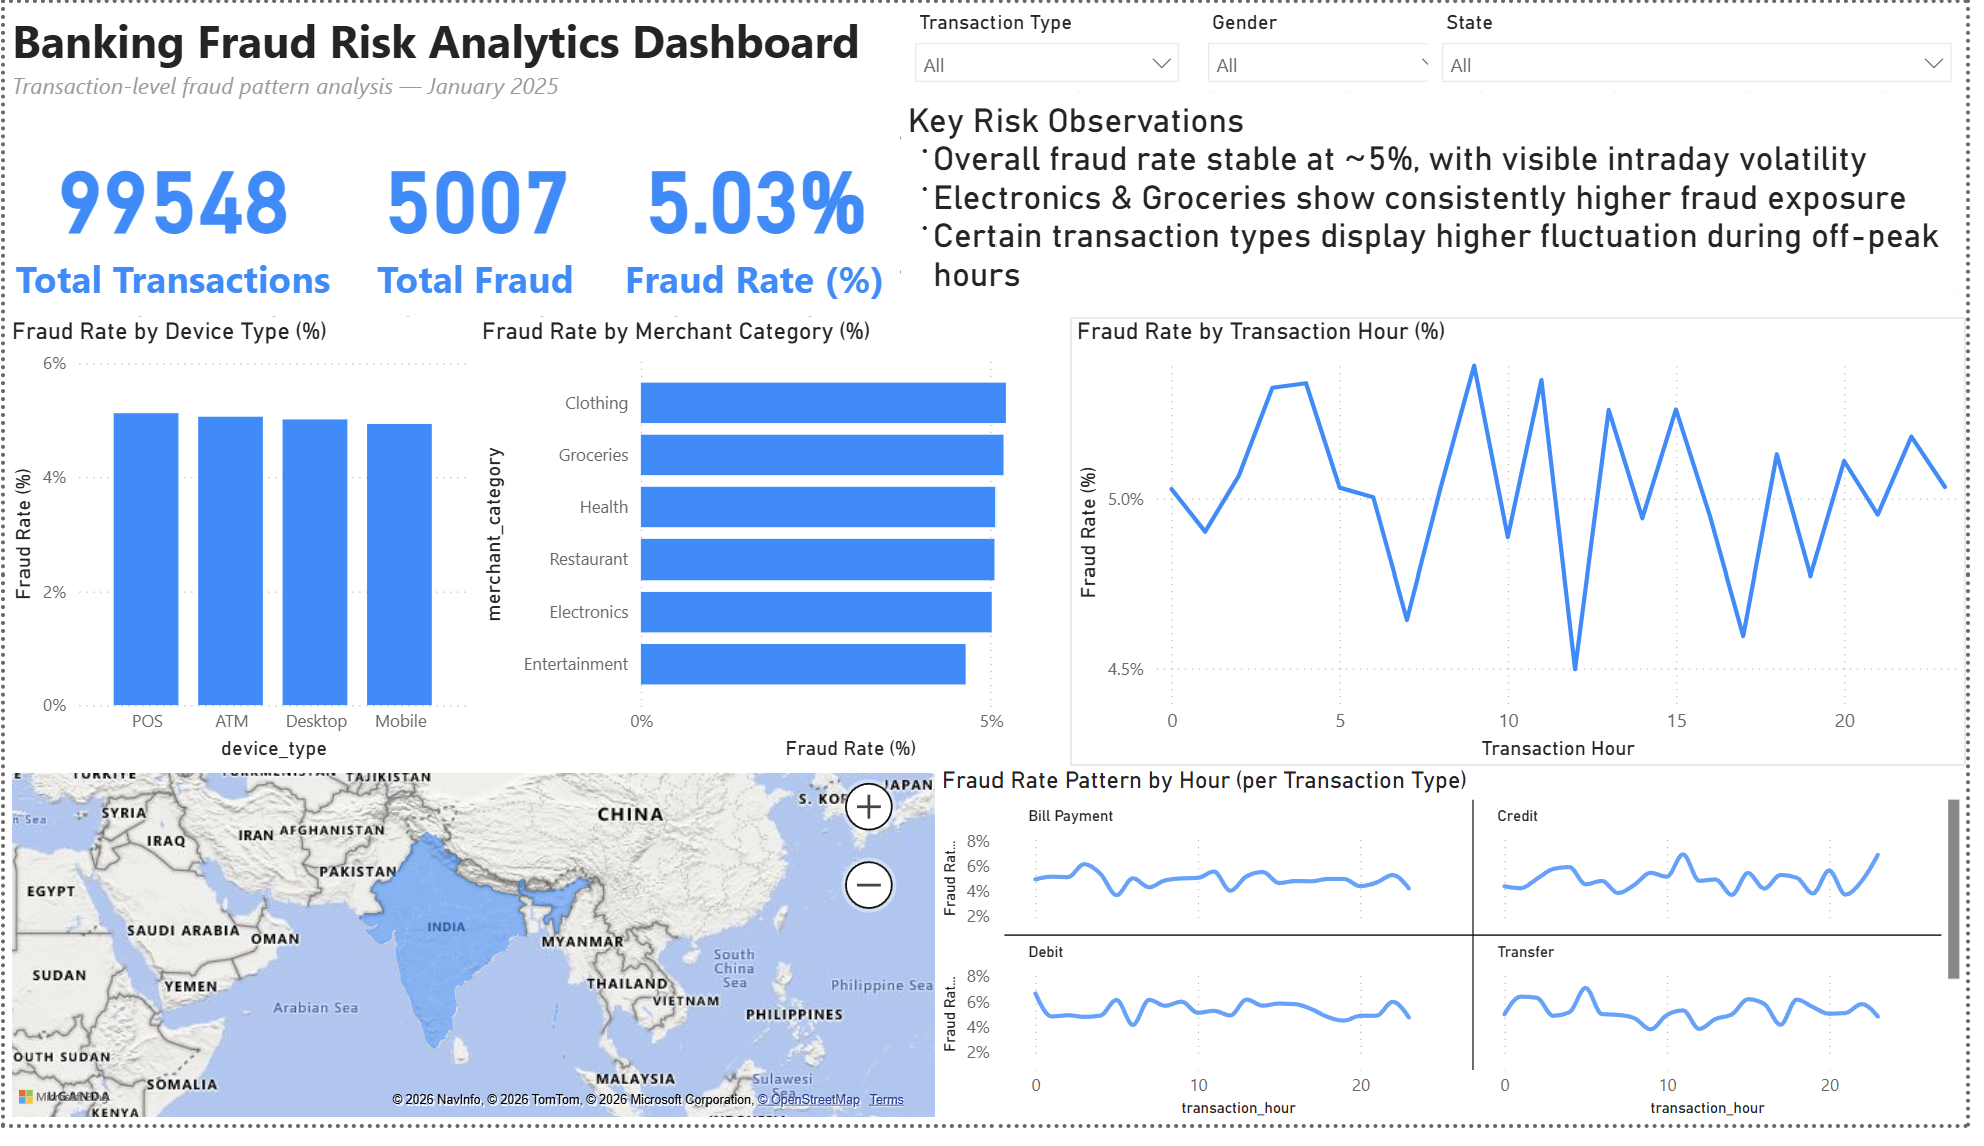

The dashboard page shown, as its layout file describes it:
{"tool":"powerbi","page":{"name":"Page 1","canvas":[1400,800],"ordinal":0},"visuals":[{"type":"card","fields":{"Values":["public transactions_analytics.Total Transactions"]},"box":[0,80,240,144],"z":0},{"type":"card","fields":{"Values":["public transactions_analytics.Total Fraud"]},"box":[240,80,192,144],"z":1000},{"type":"card","fields":{"Values":["public transactions_analytics.Fraud Rate (%)"]},"box":[432,80,208,144],"z":2000},{"type":"clusteredColumnChart","title":"Fraud Rate by Device Type (%)","fields":{"Category":["public transactions_analytics.device_type"],"Y":["public transactions_analytics.Fraud Rate (%)"]},"box":[0,224,336,320],"z":3000},{"type":"clusteredBarChart","title":"Fraud Rate by Merchant Category (%)","fields":{"Y":["public transactions_analytics.Fraud Rate (%)"],"Category":["public transactions_analytics.merchant_category"]},"box":[336,224,432,320],"z":4000},{"type":"lineChart","title":"Fraud Rate by Transaction Hour (%)","fields":{"Category":["public transactions_analytics.transaction_hour"],"Y":["public transactions_analytics.Fraud Rate (%)"]},"box":[760,224,640,320],"z":5000},{"type":"filledMap","title":"Fraud Rate by State (%)","fields":{"Category":["public transactions_analytics.state"]},"box":[0,544,672,256],"z":6000},{"type":"textbox","box":[0,0,640,80],"z":7000},{"type":"slicer","fields":{"Values":["public transactions_analytics.gender"]},"box":[848,80,192,144],"z":8000},{"type":"slicer","fields":{"Values":["public transactions_analytics.transaction_type"]},"box":[640,80,208,144],"z":9000},{"type":"slicer","fields":{"Values":["public transactions_analytics.state"]},"box":[1032,80,368,144],"z":10000},{"type":"lineChart","title":"Fraud Rate Pattern by Hour (per Transaction Type)","fields":{"Category":["public transactions_analytics.transaction_hour"],"Y":["public transactions_analytics.Fraud Rate (%)"],"Rows":["public transactions_analytics.transaction_type"]},"box":[664,544,736,256],"z":11000}]}

Visuals, with their boxes in screenshot pixels (x1, y1, x2, y2), scaled from the page's 1400x800 canvas onto the 1984x1146 screenshot:
card - public transactions_analytics.Total Transactions: x1=0, y1=115, x2=340, y2=321
card - public transactions_analytics.Total Fraud: x1=340, y1=115, x2=612, y2=321
card - public transactions_analytics.Fraud Rate (%): x1=612, y1=115, x2=907, y2=321
"Fraud Rate by Device Type (%)" clusteredColumnChart: x1=0, y1=321, x2=476, y2=779
"Fraud Rate by Merchant Category (%)" clusteredBarChart: x1=476, y1=321, x2=1088, y2=779
"Fraud Rate by Transaction Hour (%)" lineChart: x1=1077, y1=321, x2=1983, y2=779
"Fraud Rate by State (%)" filledMap: x1=0, y1=779, x2=952, y2=1145
textbox: x1=0, y1=0, x2=907, y2=115
slicer - public transactions_analytics.gender: x1=1202, y1=115, x2=1474, y2=321
slicer - public transactions_analytics.transaction_type: x1=907, y1=115, x2=1202, y2=321
slicer - public transactions_analytics.state: x1=1462, y1=115, x2=1983, y2=321
"Fraud Rate Pattern by Hour (per Transaction Type)" lineChart: x1=941, y1=779, x2=1983, y2=1145
